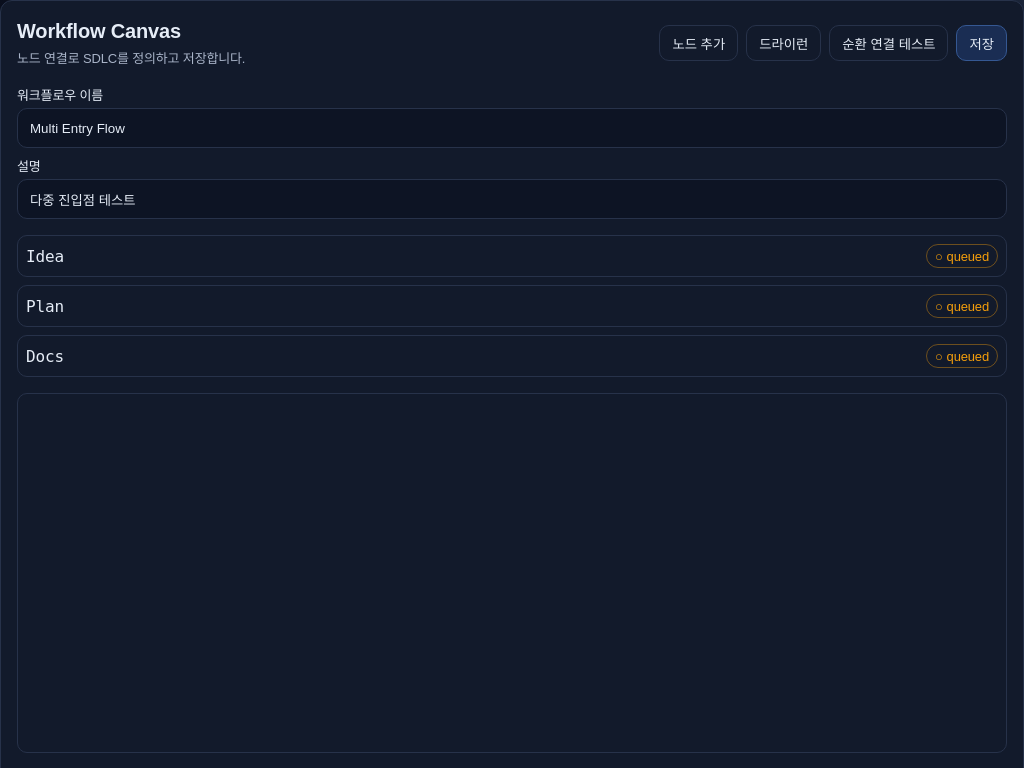
Test: WorkflowBuilder › 저장 시 다중 Entry 그래프를 클라이언트에서 차단한다
Click the button "저장": (982, 43) [956,25,1007,61]
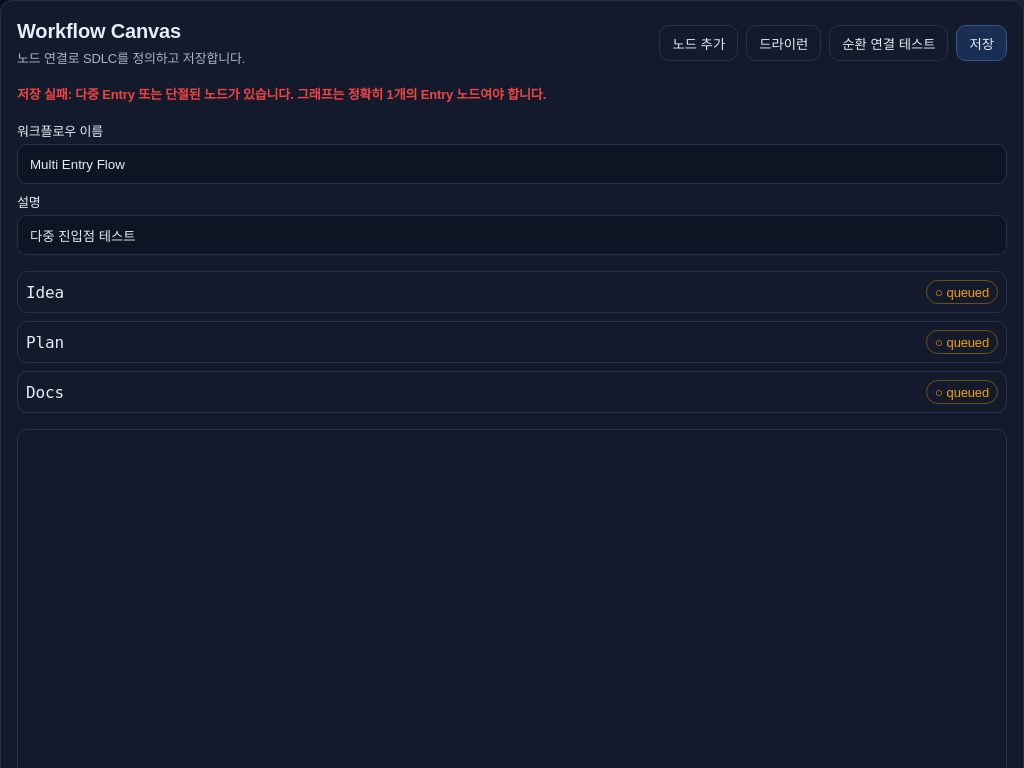
Expected: the text "저장 실패: 다중 Entry 또는 단절된 노드가 있습니다. 그래프는 정확히 1개의 Entry 노드여야 합니다." is shown, [17,87,546,102]
